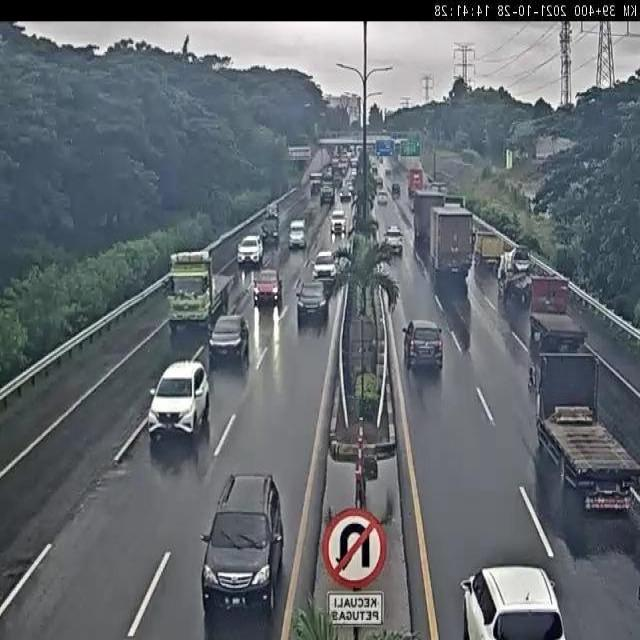Car: (200, 472, 284, 621), (460, 564, 568, 638), (149, 359, 210, 442), (207, 313, 249, 371), (402, 319, 444, 372), (295, 279, 328, 326), (252, 268, 282, 308), (236, 235, 264, 266), (313, 251, 337, 281), (260, 211, 280, 245), (288, 218, 307, 249), (383, 226, 403, 254), (330, 208, 346, 234), (320, 184, 334, 206), (339, 186, 352, 202), (376, 190, 388, 205), (322, 167, 332, 184), (333, 173, 343, 189), (392, 182, 401, 198)
Truck: (536, 340, 640, 515), (528, 273, 590, 357), (165, 248, 224, 334), (427, 202, 472, 288), (412, 188, 447, 262), (498, 244, 534, 302), (473, 231, 503, 270), (310, 177, 322, 194), (375, 175, 384, 188)
